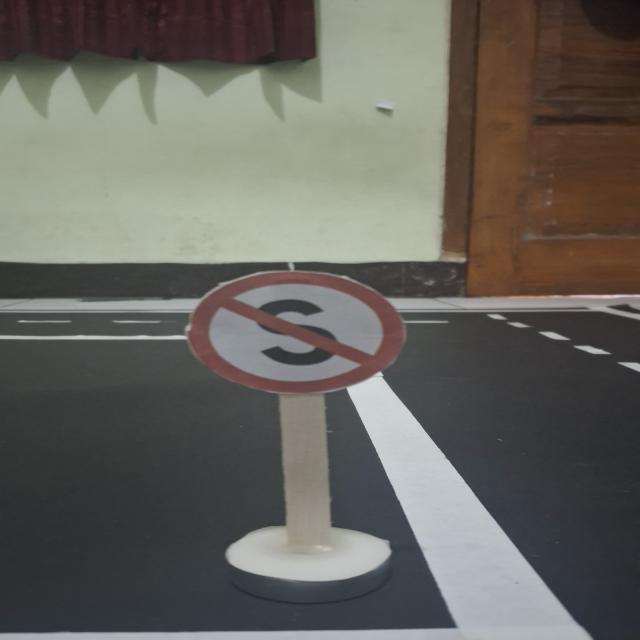Rambu Berhenti: (187, 272, 407, 394)
